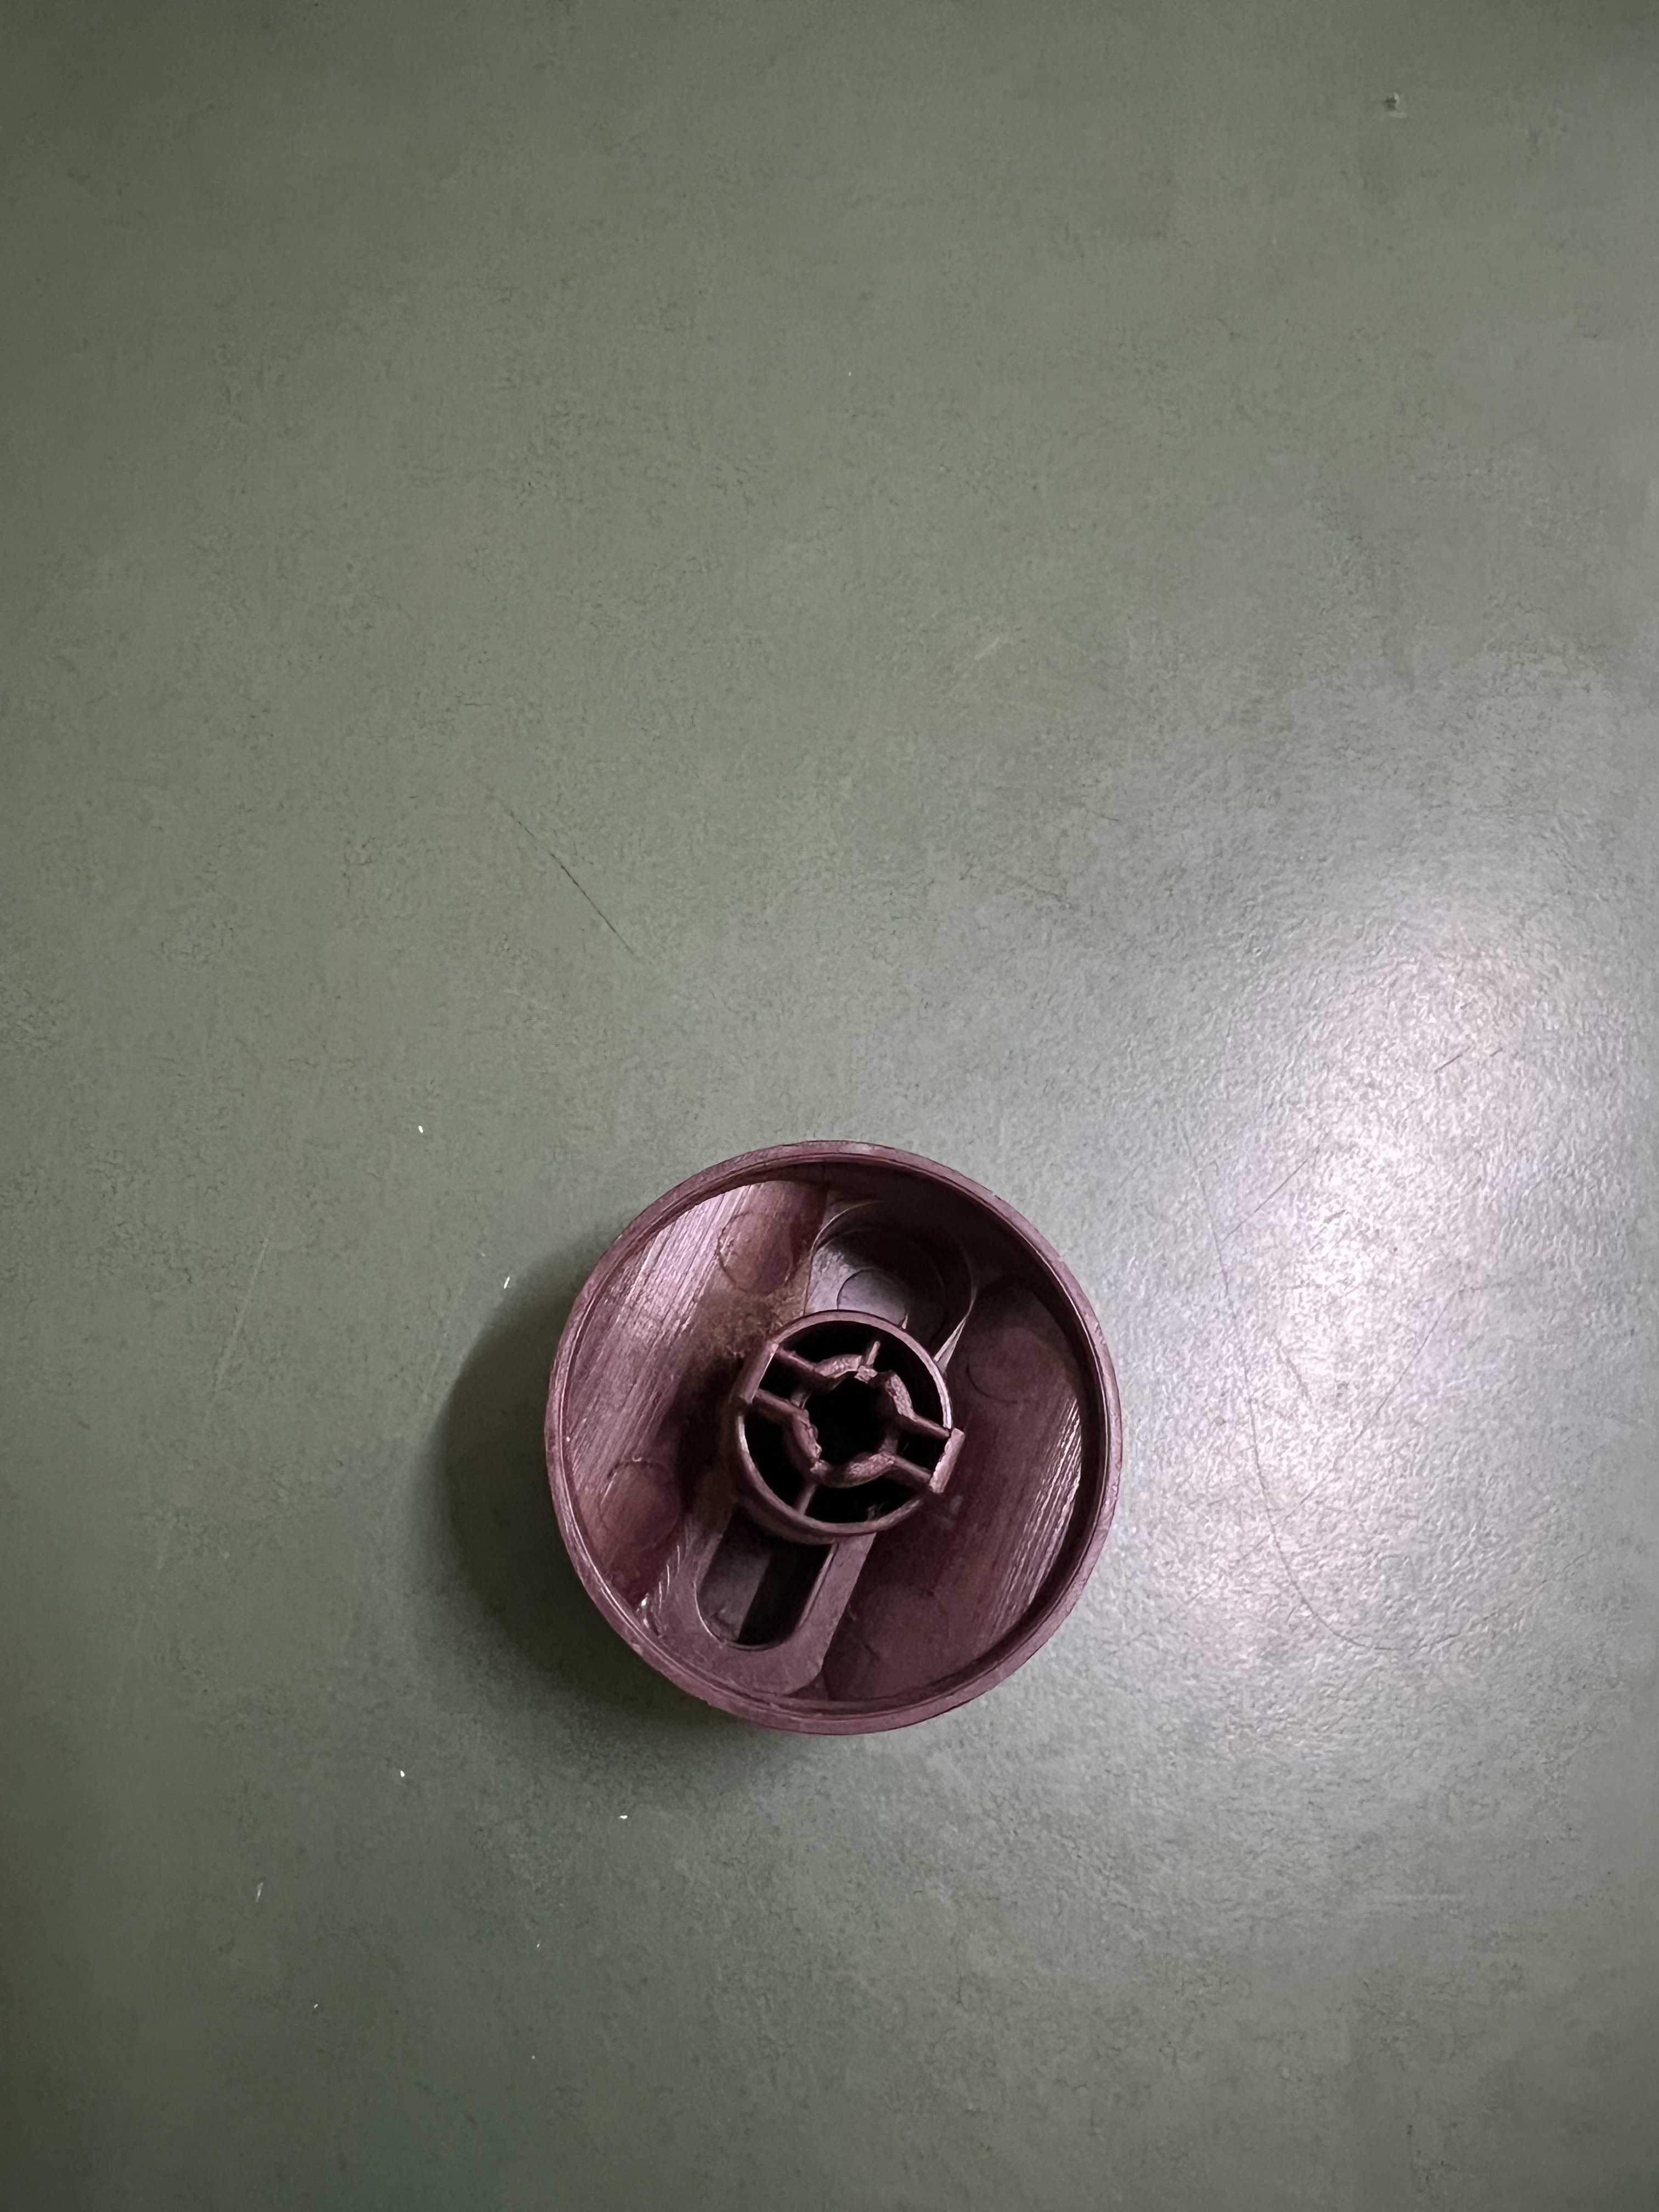regulator: (538, 1116, 1126, 1733)
